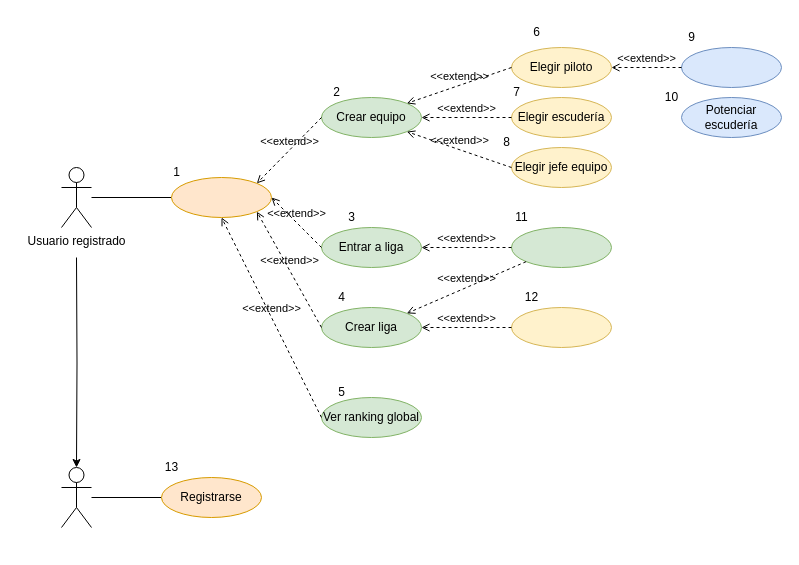
Some shapes in this 799 by 565 pixel diagram are drawn without their labels. Each missing label, with the box of its shape:
Autenticarse: (170, 176, 272, 218)
Invitar a la liga: (510, 306, 612, 348)
Potenciar piloto: (680, 46, 782, 88)
Usuario NO registrado: (60, 466, 92, 528)
Ver ranking liga: (510, 226, 612, 268)
